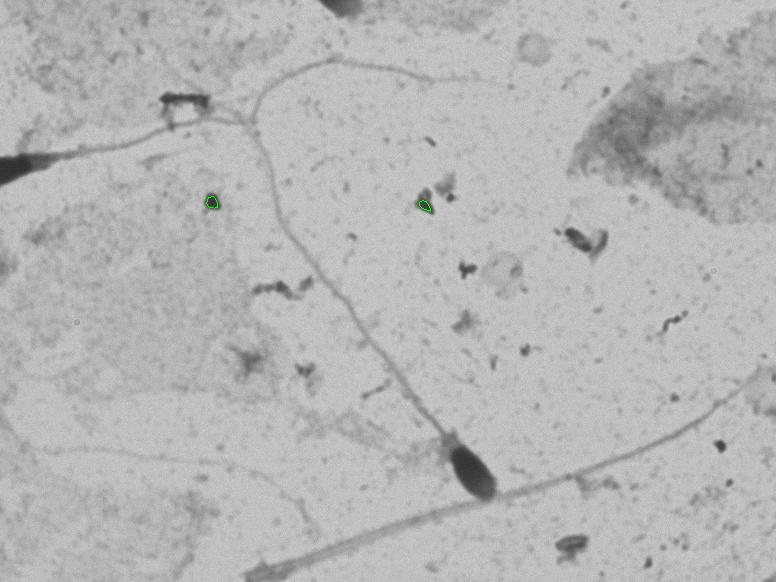Normal: (234, 43, 512, 511)
